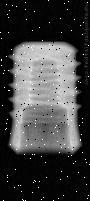Novodent: (8, 40, 82, 154)
